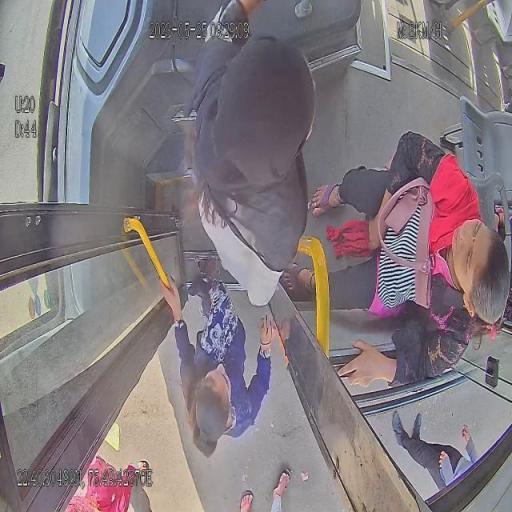persona: (284, 130, 510, 390), (286, 130, 510, 330), (181, 0, 315, 309), (158, 254, 276, 456), (392, 410, 478, 492), (65, 454, 152, 512), (238, 467, 292, 511)
